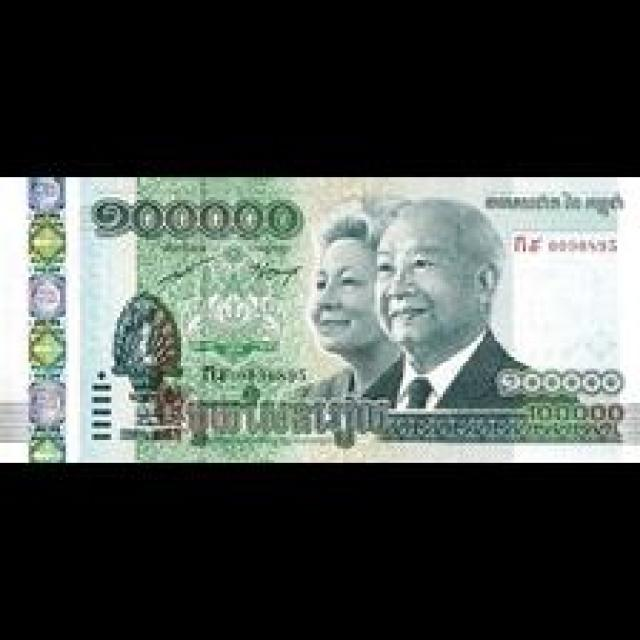banknote: (0, 155, 640, 479), (516, 396, 634, 432)
